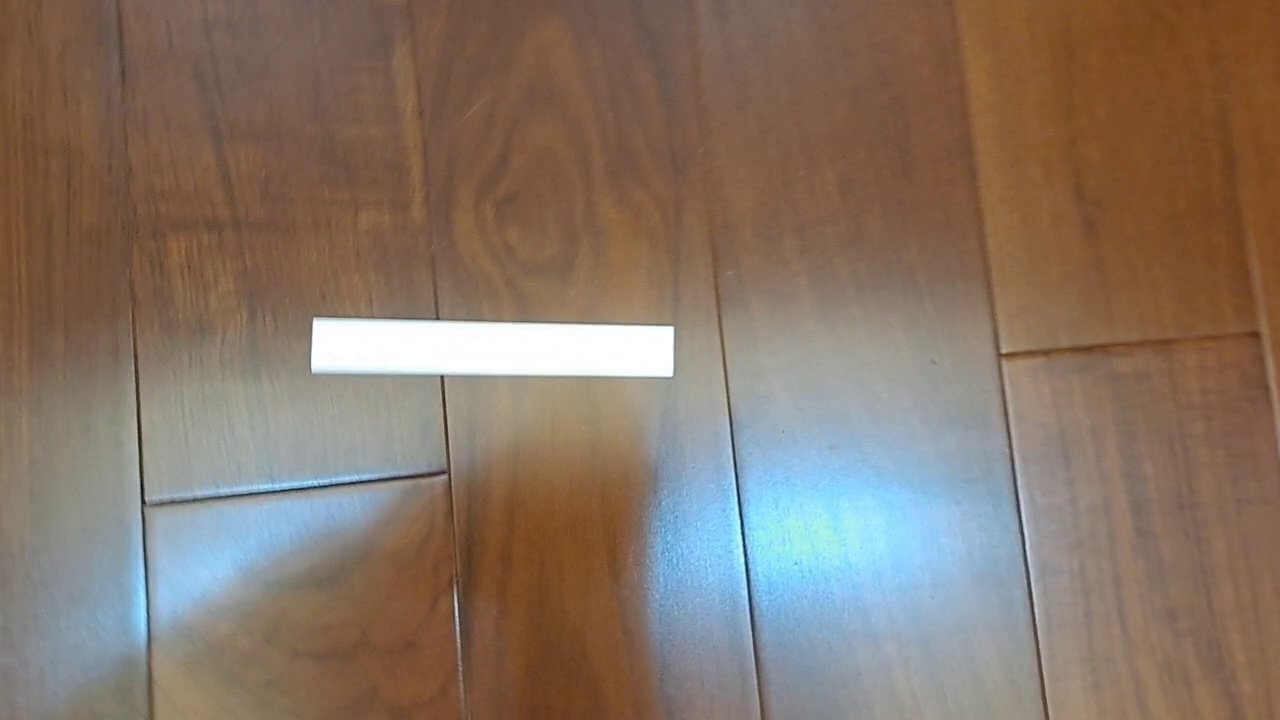ruler: (309, 316, 676, 380)
